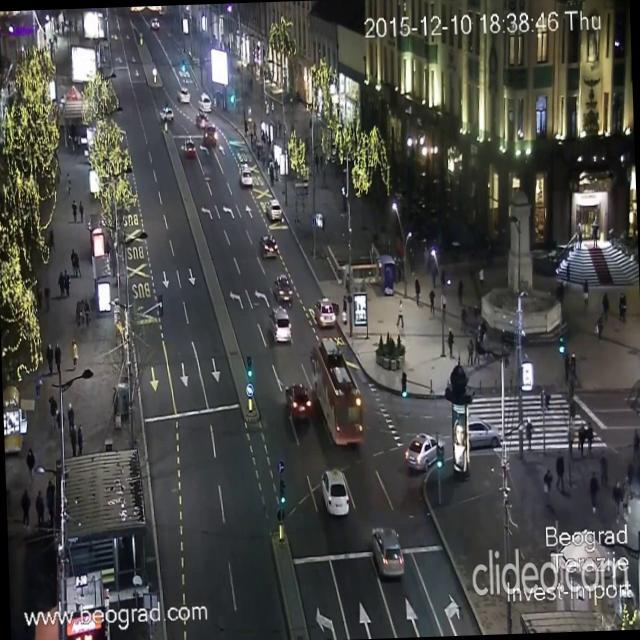bus: (309, 336, 364, 446)
car: (370, 525, 404, 579), (404, 432, 444, 472), (320, 466, 350, 516), (466, 417, 502, 449), (284, 382, 312, 421), (266, 304, 292, 343), (314, 296, 334, 328), (273, 274, 291, 300), (204, 126, 220, 148), (267, 195, 282, 218), (259, 232, 273, 254), (240, 162, 250, 188), (161, 106, 174, 124), (178, 85, 190, 104), (184, 142, 196, 156), (198, 95, 210, 109), (148, 16, 158, 30), (197, 114, 207, 127)
